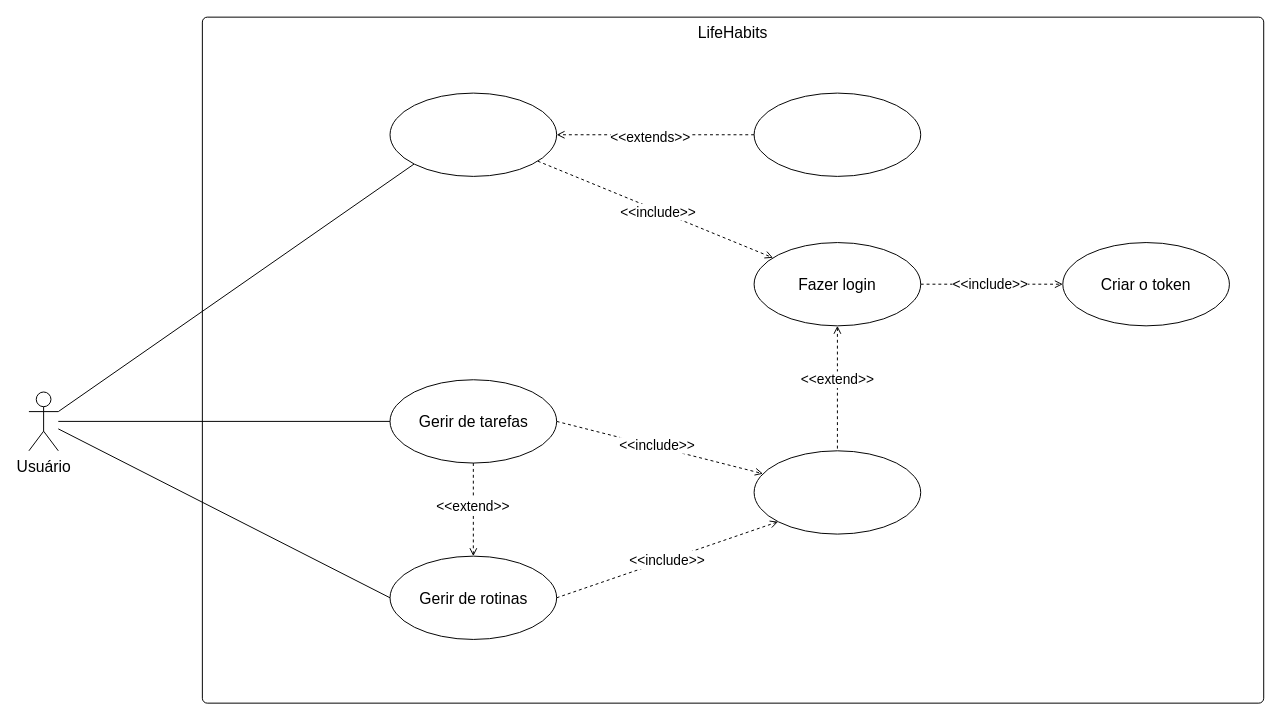
This 1281x720 diagram has some shape labels left out. Each missing label, with the centre of its shape:
Autenticação: [473,134]
Fazer o cadatro: [837,134]
Validar o token: [837,492]
